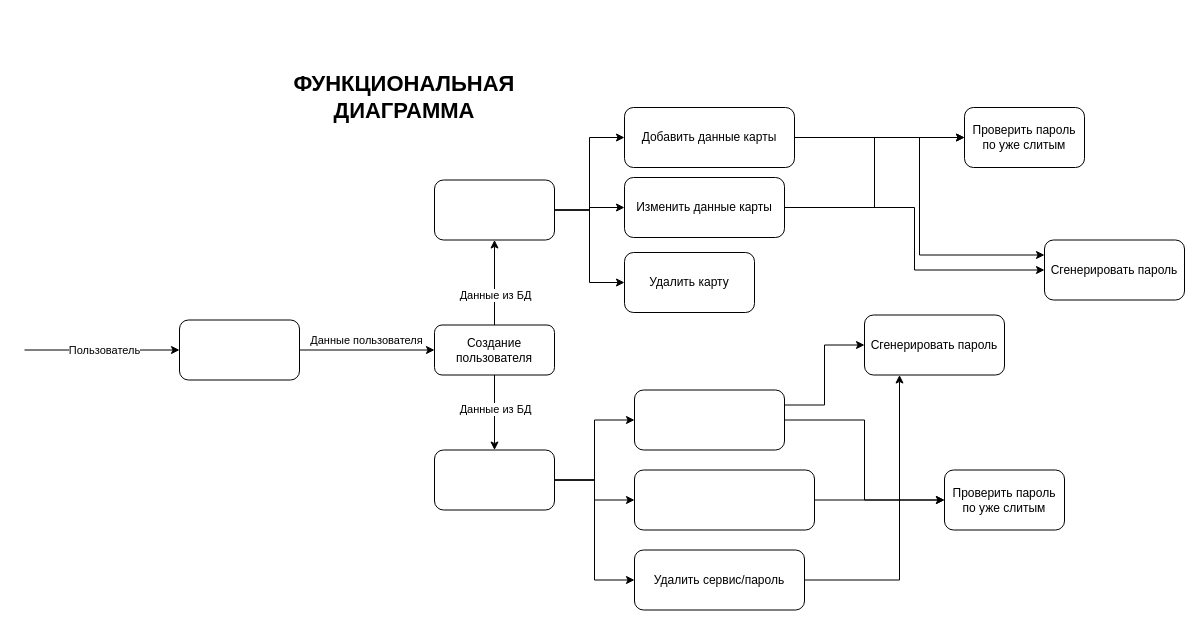
Image size: 1202x627. Some labels were removed from this diagram. The shapes that lost their labels are listed below. From the top down, each one's centre as x and y in pixels, then its label:
At point (494, 209): "Просмотр паролей от карт".
At point (239, 349): "Регистрация".
At point (709, 419): "Добавить сервис/пароль".
At point (494, 479): "Просмотр паролей сервисов".
At point (724, 499): "Изменить сервис/пароль".
